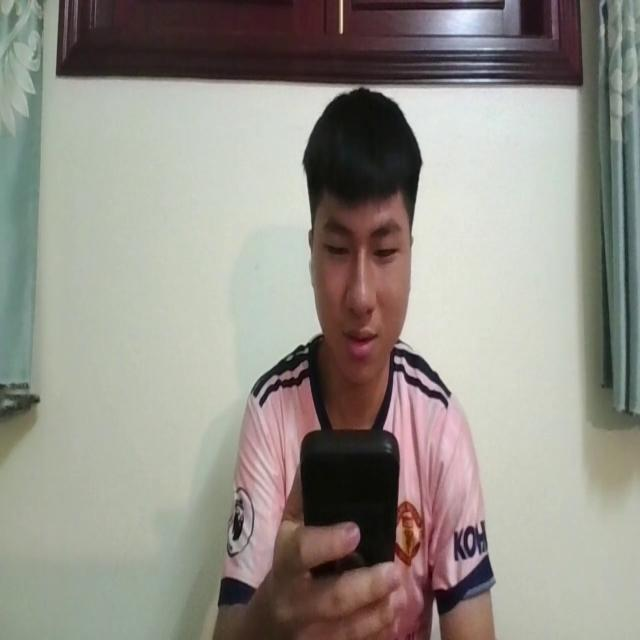phone: (298, 422, 399, 580)
student: (216, 89, 494, 640)
